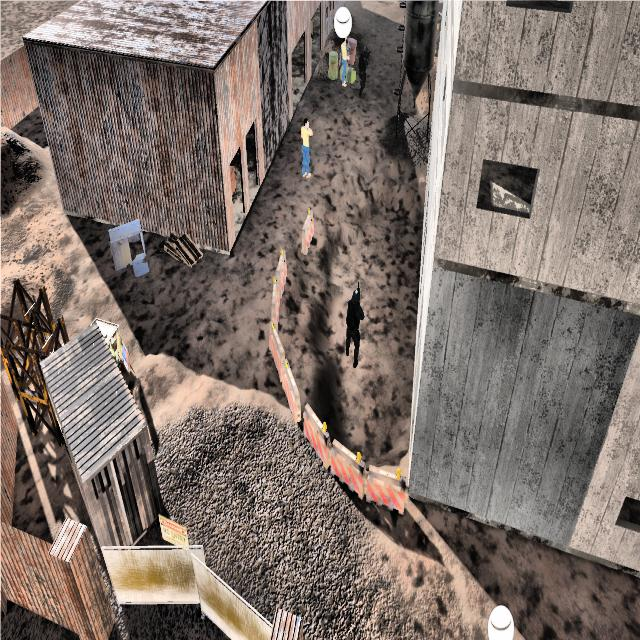bad: (340, 278, 366, 372), (356, 38, 372, 97)
good: (296, 114, 316, 180), (337, 33, 352, 91)
